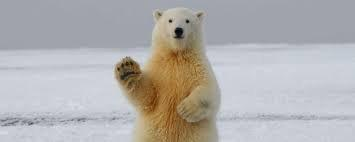bear: (114, 8, 221, 142)
